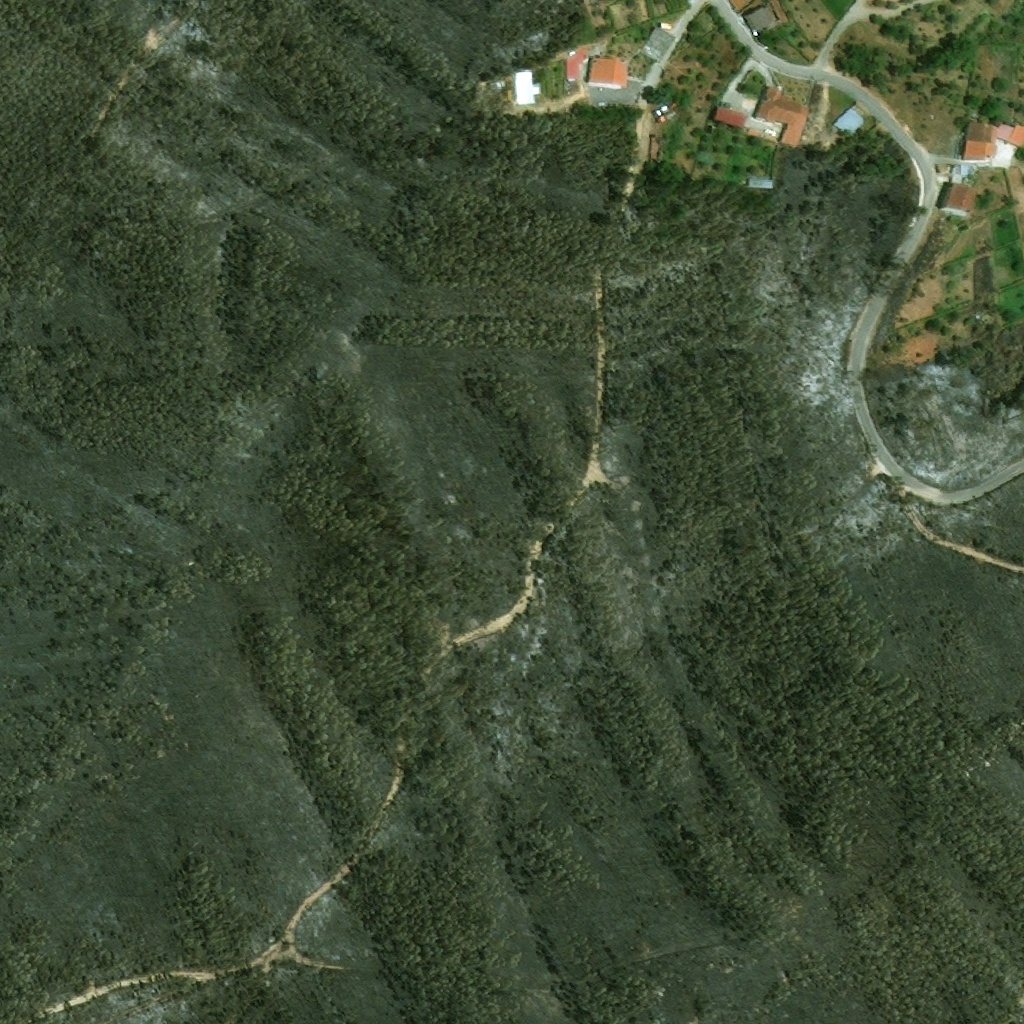0 no-damage: (751, 84, 808, 147), (963, 118, 1023, 161), (935, 180, 979, 218), (740, 2, 781, 38), (586, 57, 628, 88), (639, 26, 674, 62), (831, 101, 866, 137), (513, 67, 541, 105), (709, 105, 744, 129), (564, 58, 577, 79)
